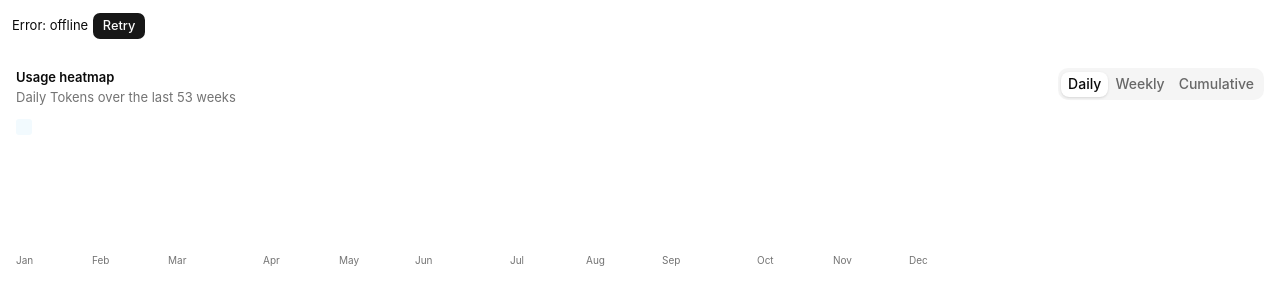
keeps the latest heatmap window and retries a failed refresh
This screenshot has width=1271, height=283.
expect the message "Error: offline Retry" is shown: met, box [12, 12, 146, 40]
Click the button "Retry": (119, 26) [92, 12, 146, 40]
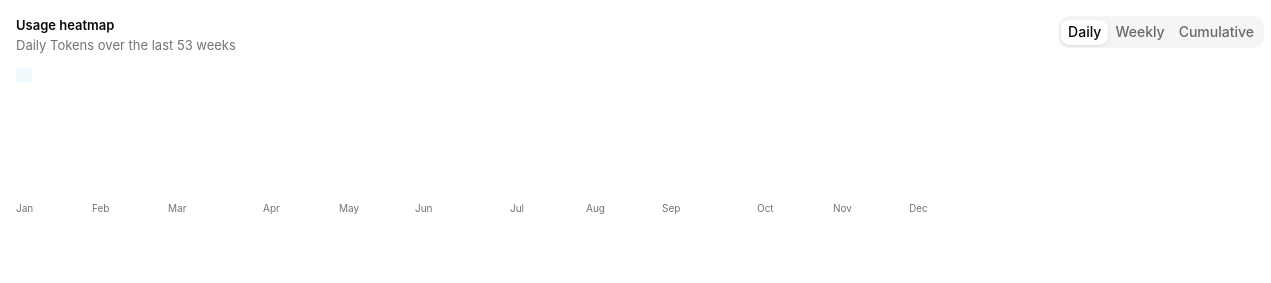
expect the message "Error: offline Retry" is gone: met
